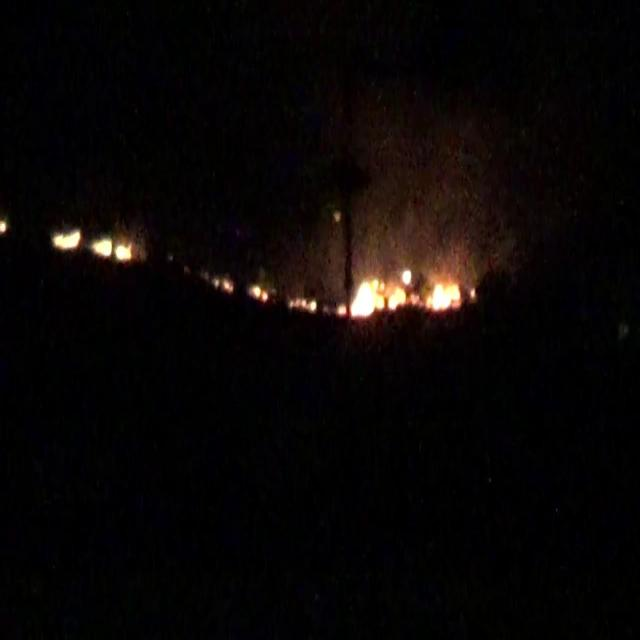Fire: (336, 278, 474, 316), (54, 230, 132, 268), (289, 294, 317, 314), (212, 274, 234, 292), (250, 283, 268, 304)
